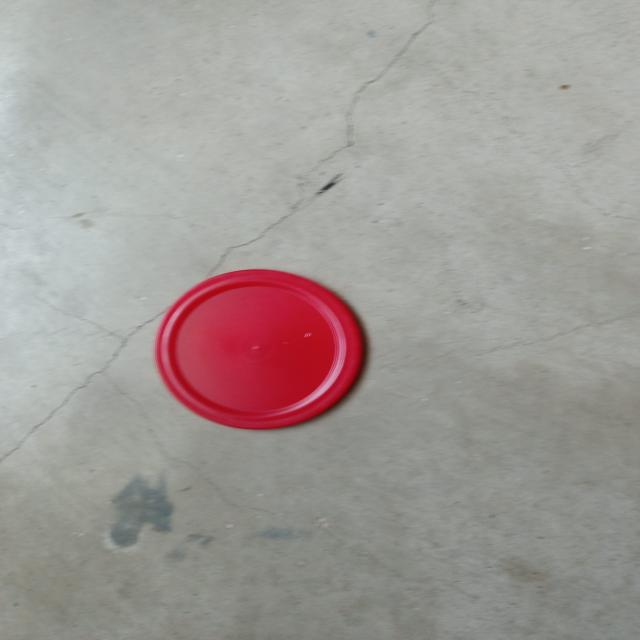chip: (146, 265, 374, 434)
